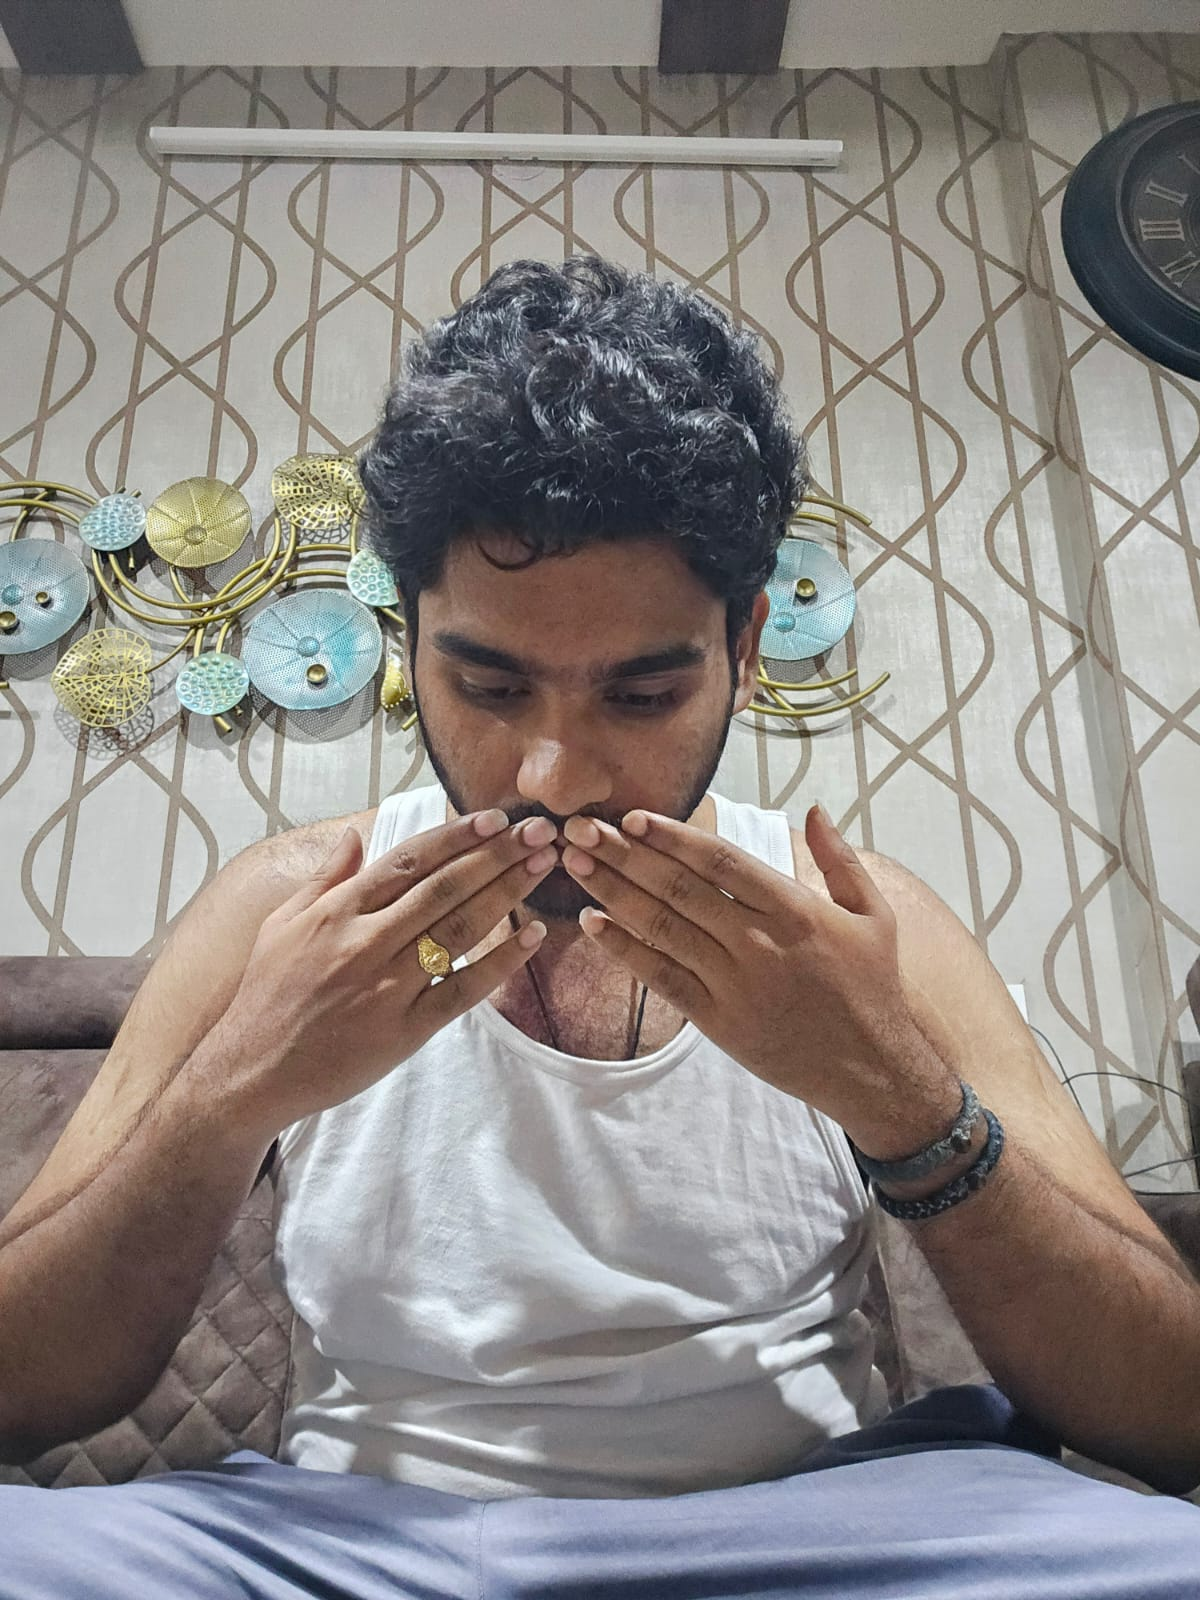thank you: (195, 805, 940, 1101)
